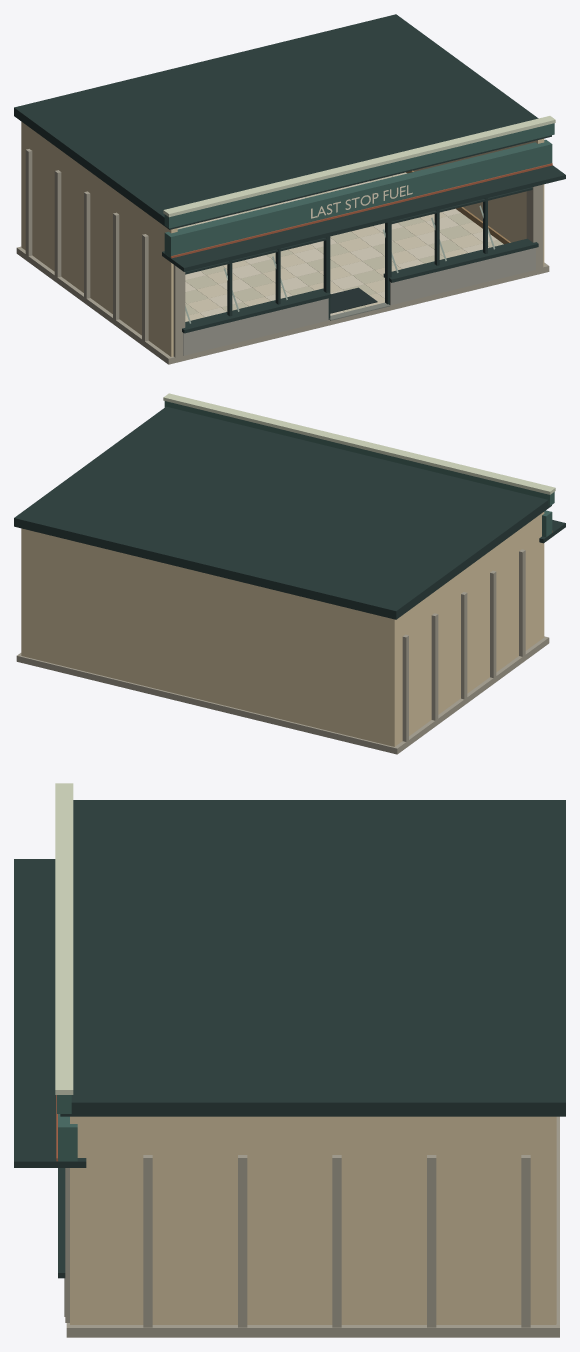
The model's file is last_stop_shop_shell.glb.
3 renders of one model, top to bottom at view 1: azimuth 30°, elevation 25°; view 2: azimuth 150°, elevation 25°; view 3: azimuth 270°, elevation 25°, orthographic. The views are drawn at different scales.
Visible parts, largest first — view 1: Roof deck, Masonry side wall, Front fascia, Entrance canopy, Upper parapet, Shop floor slab, Parapet crown, Knee wall, Knee wall.001, Masonry side wall.001, Window sill, Window sill.001 (+12 smaller); view 2: Roof deck, Rear brick, Masonry side wall, Shop floor slab, Parapet crown, Upper parapet, Exterior pilaster.003, Exterior pilaster, Exterior pilaster.002, Exterior pilaster.004, Exterior pilaster.001; view 3: Roof deck, Masonry side wall.001, Entrance canopy, Shop floor slab, Parapet crown, Exterior pilaster.005, Exterior pilaster.006, Exterior pilaster.007, Exterior pilaster.008, Exterior pilaster.009, Window sill.001, Front fascia (+1 smaller).
Boxes of the visible parts, x1=… form: Roof deck: x1=14, y1=14, x2=551, y2=229; Masonry side wall: x1=21, y1=121, x2=177, y2=356; Front fascia: x1=164, y1=139, x2=552, y2=257; Entrance canopy: x1=162, y1=165, x2=565, y2=271; Upper parapet: x1=164, y1=123, x2=554, y2=228; Shop floor slab: x1=16, y1=246, x2=549, y2=364; Parapet crown: x1=163, y1=116, x2=555, y2=217; Knee wall: x1=183, y1=298, x2=328, y2=355; Knee wall.001: x1=390, y1=248, x2=535, y2=305; Masonry side wall.001: x1=413, y1=138, x2=544, y2=266; Window sill: x1=182, y1=288, x2=331, y2=333; Window sill.001: x1=383, y1=238, x2=538, y2=282; Roof deck: x1=14, y1=406, x2=551, y2=619; Rear brick: x1=22, y1=529, x2=393, y2=746; Masonry side wall: x1=393, y1=512, x2=544, y2=746; Shop floor slab: x1=16, y1=636, x2=549, y2=754; Parapet crown: x1=163, y1=393, x2=555, y2=494; Upper parapet: x1=164, y1=401, x2=554, y2=505; Exterior pilaster.003: x1=431, y1=613, x2=438, y2=720; Exterior pilaster: x1=519, y1=549, x2=525, y2=656; Exterior pilaster.002: x1=461, y1=592, x2=467, y2=699; Exterior pilaster.004: x1=402, y1=634, x2=408, y2=741; Exterior pilaster.001: x1=490, y1=570, x2=496, y2=677; Roof deck: x1=60, y1=800, x2=565, y2=1116; Masonry side wall.001: x1=70, y1=1116, x2=556, y2=1324; Entrance canopy: x1=14, y1=859, x2=86, y2=1167; Shop floor slab: x1=66, y1=1116, x2=559, y2=1337; Parapet crown: x1=55, y1=783, x2=73, y2=1094; Exterior pilaster.005: x1=143, y1=1155, x2=152, y2=1327; Exterior pilaster.006: x1=238, y1=1155, x2=247, y2=1327; Exterior pilaster.007: x1=332, y1=1155, x2=341, y2=1327; Exterior pilaster.008: x1=427, y1=1155, x2=436, y2=1327; Exterior pilaster.009: x1=521, y1=1155, x2=530, y2=1327; Window sill.001: x1=58, y1=1168, x2=65, y2=1278; Front fascia: x1=58, y1=1114, x2=77, y2=1161.
Size of the model in its own units: 9.44 by 3.59 by 7.19.
